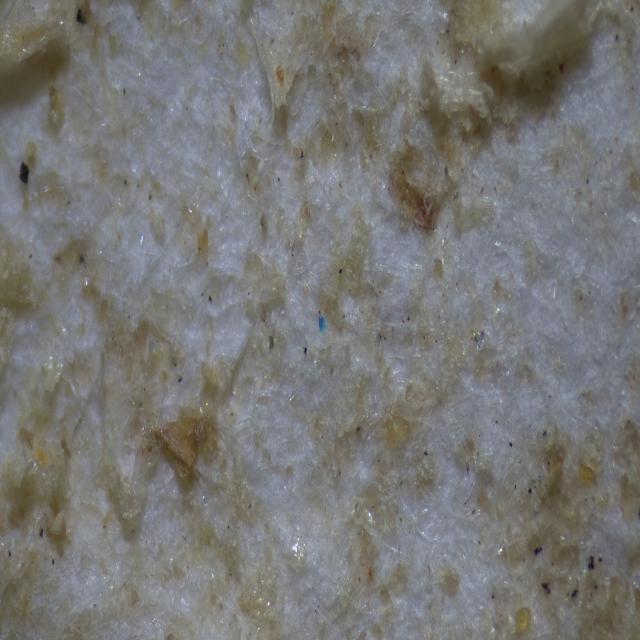microplastic: (319, 311, 327, 328)
